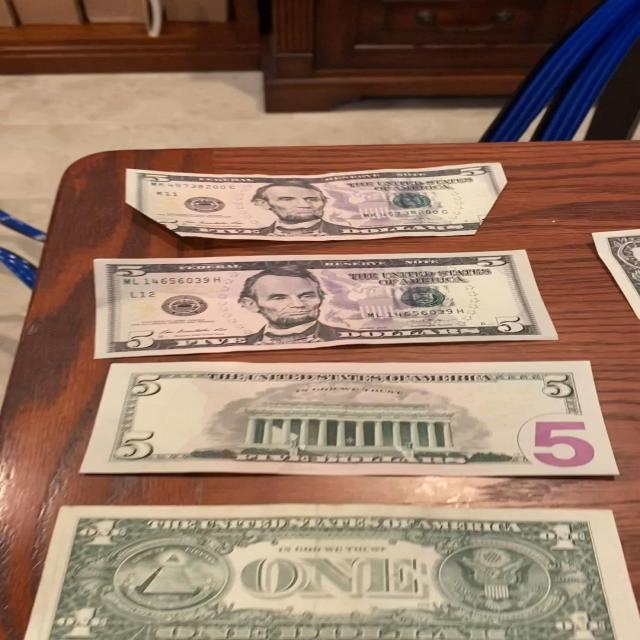1-Back: (7, 499, 640, 640)
5-Back: (75, 358, 627, 482)
5-Front: (81, 251, 565, 363), (119, 160, 525, 244)
